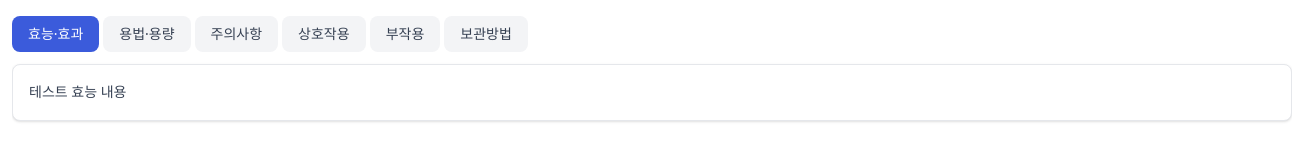
Scenario: MedicineInfoTabs › 데이터가 없는 탭을 클릭하면 '정보가 제공되지 않았습니다.' 메시지가 표시
The width and height of the screenshot is (1292, 160).
Click the tab "용법·용량" at [147, 34], box [103,16,191,52]
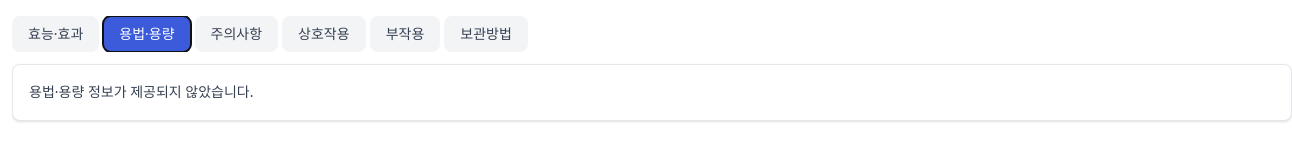
Result: the text "용법·용량 정보가 제공되지 않았습니다." is shown at [29,82,254,101]
